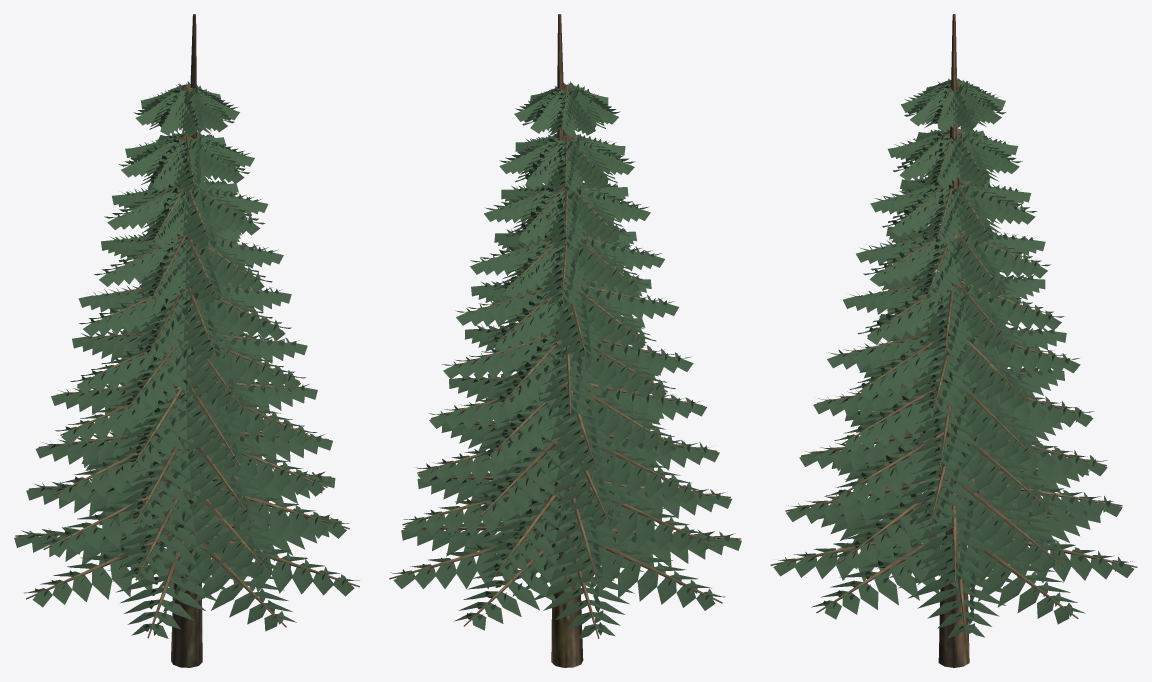
File: Pine_A.glb
The picture shows the model from 3 angles, left to right: view 1: azimuth 30°, elevation 25°; view 2: azimuth 150°, elevation 25°; view 3: azimuth 270°, elevation 25°; orthographic projection.
Visible parts, largest first — view 1: Pine_A; view 2: Pine_A; view 3: Pine_A.
Part boxes in pixels (box(x1,y1,x2,y2)): Pine_A: box(14, 14, 359, 667); Pine_A: box(389, 14, 741, 667); Pine_A: box(770, 14, 1137, 667).
Bounding box in the file's own units: 4.1 × 8 × 4.09.
1 material, 1 textured.
